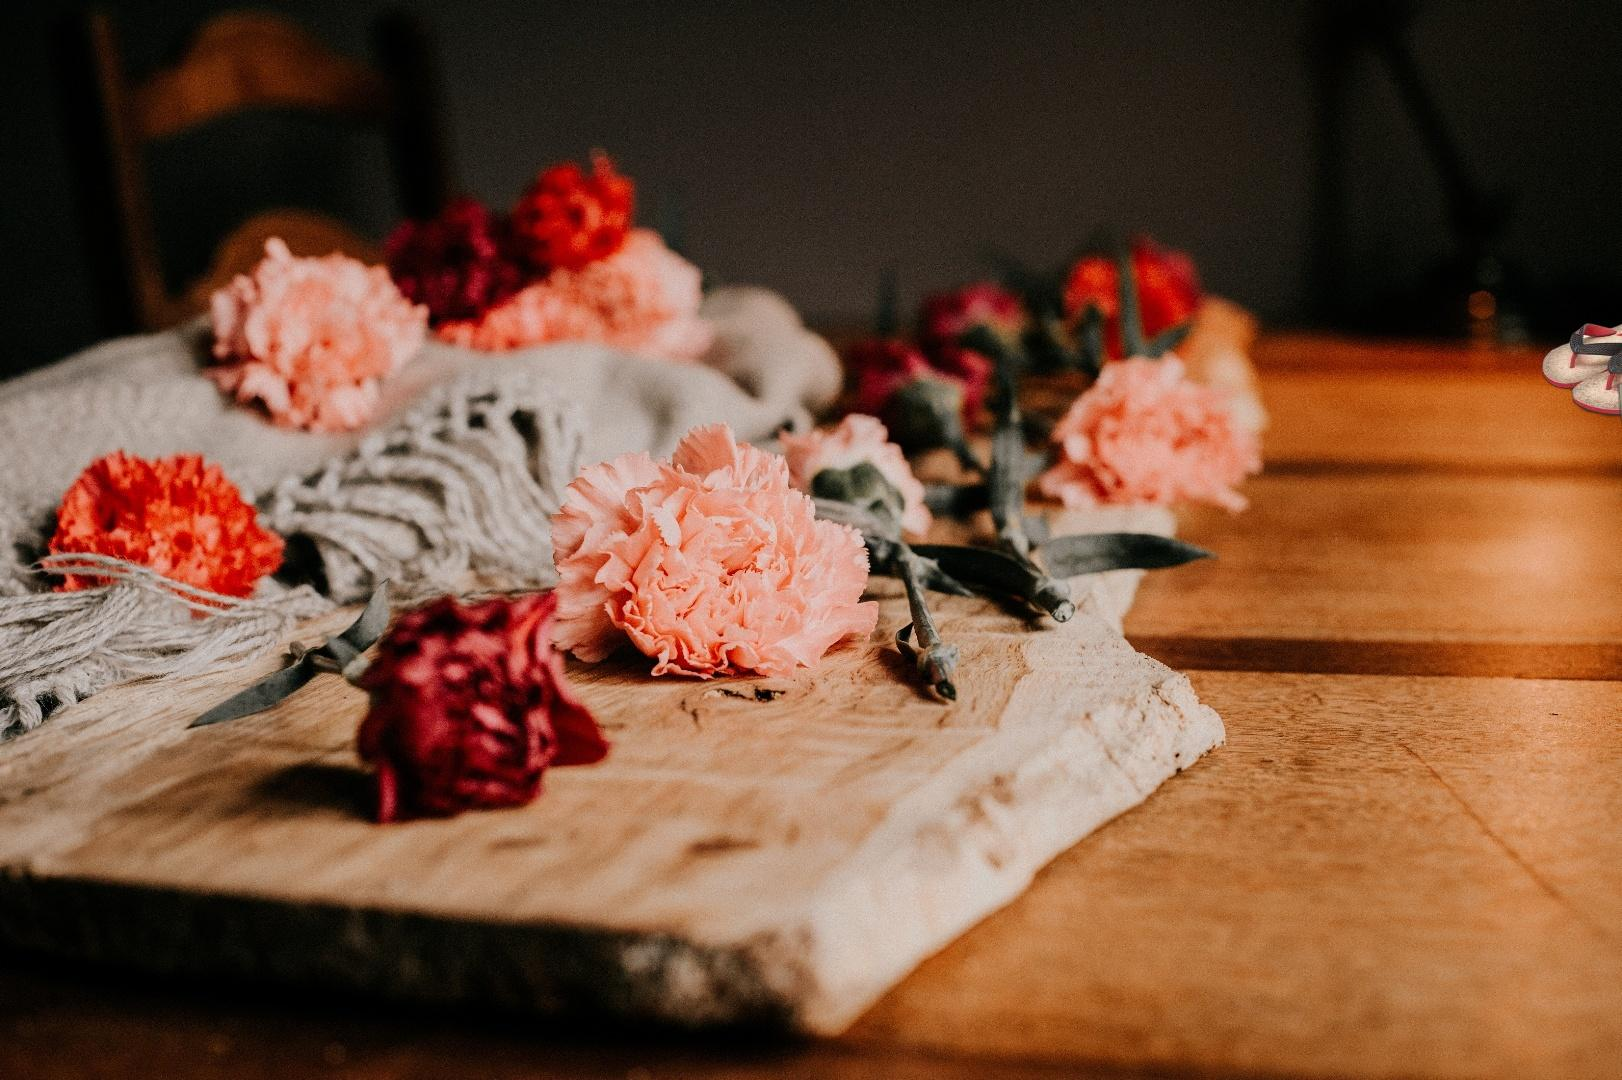shoes: (1539, 315, 1622, 419)
trashbox-cardboard: (1614, 301, 1622, 504)
